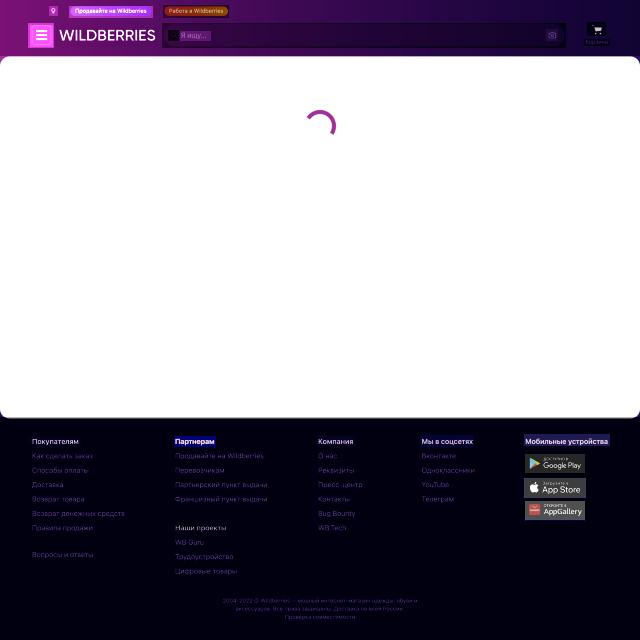CheckBox: (524, 478, 586, 498), (525, 502, 585, 522), (525, 454, 585, 473)
CheckedTextView: (162, 23, 566, 48)
badge: (0, 417, 640, 640)
bag: (0, 0, 640, 56)
breadcrumbs: (524, 434, 610, 446), (420, 435, 474, 447), (174, 522, 228, 533), (28, 437, 81, 446), (174, 436, 217, 447), (317, 436, 355, 446)
carousel: (30, 25, 53, 47), (587, 22, 606, 36), (546, 29, 558, 41), (168, 30, 179, 41), (49, 6, 58, 16)
data feed: (584, 39, 610, 46)
date picker: (56, 27, 158, 47)
decoration: (28, 23, 54, 48)
footer: (180, 31, 211, 41)
illustration: (69, 5, 153, 18), (163, 5, 229, 18)
